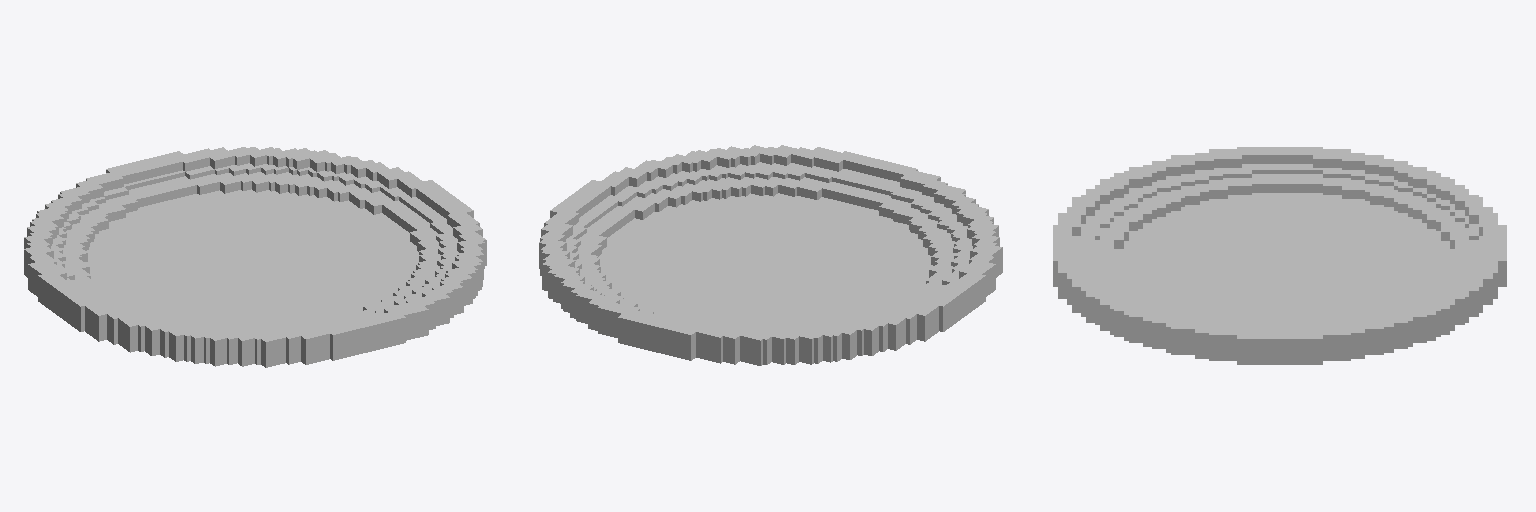
File: Plato.obj
The picture shows the model from 3 angles: view 1: azimuth 30°, elevation 25°; view 2: azimuth 150°, elevation 25°; view 3: azimuth 270°, elevation 25°; orthographic projection.
Visible parts, largest first — view 1: object 1; view 2: object 1; view 3: object 1.
Boxes of the visible parts, x1,y1,x2,y2 form: object 1: [24, 147, 486, 367]; object 1: [539, 145, 1002, 365]; object 1: [1053, 147, 1506, 364].
Bounding box in the file's own units: 9.6 × 0.6 × 9.6.